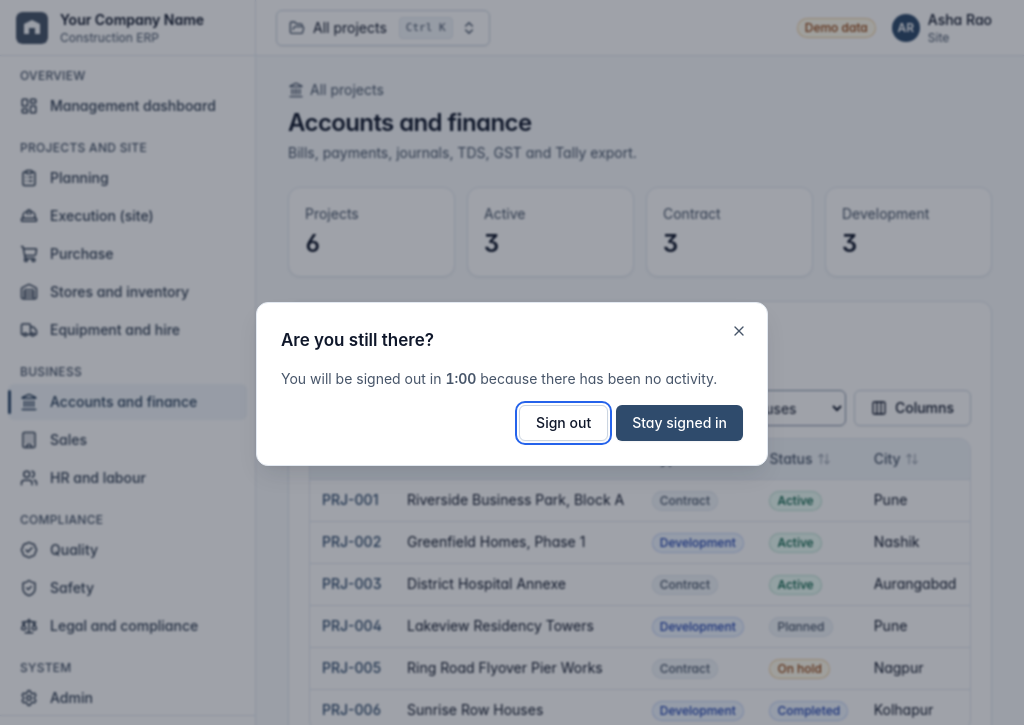
session timeout warning › warns before the idle limit and "Stay signed in" asks the server to extend it
The image size is (1024, 725).
Click the button "Stay signed in" at (680, 423), box top-left (616, 405), bottom-right (743, 441)
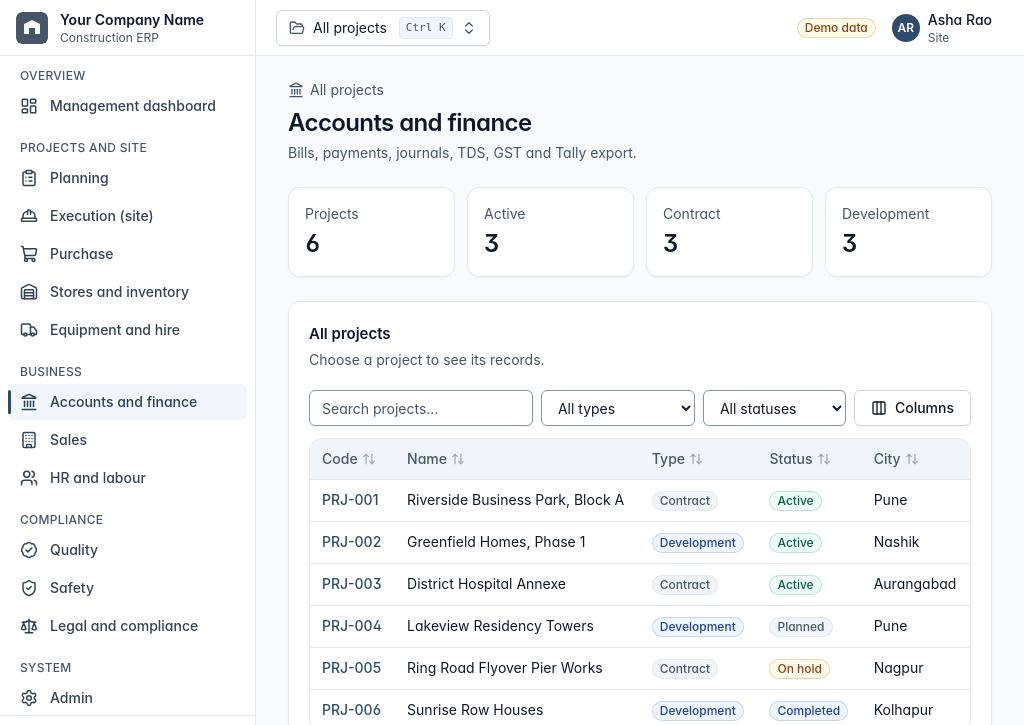
Result: the dialog is gone
